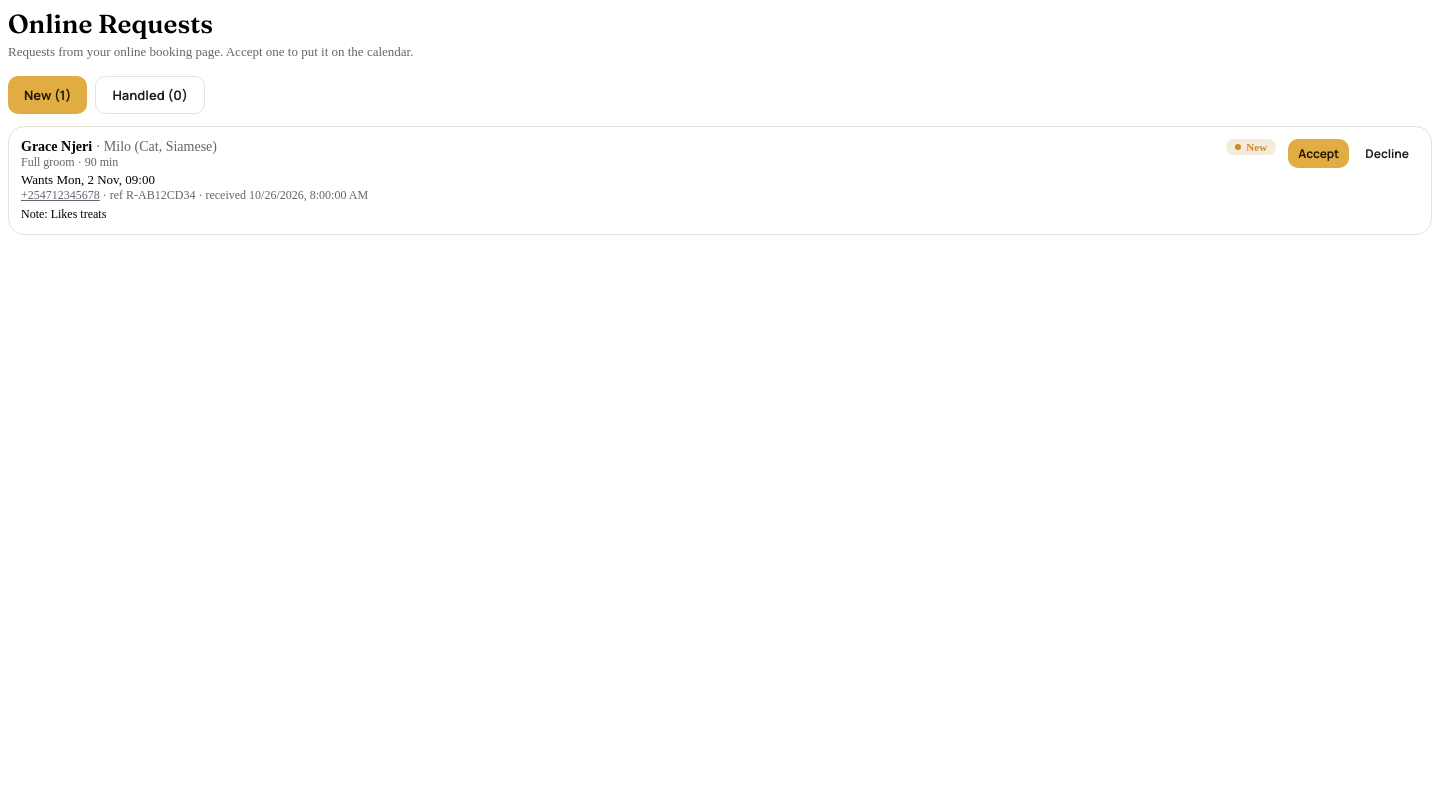
Scenario: BookingRequestsPage › shows the clash message and keeps the request open when the groomer is busy
This screenshot has width=1440, height=810.
Click the button with aria-label "Accept request from Grace Njeri" at (1319, 154), box [1288,139,1349,168]
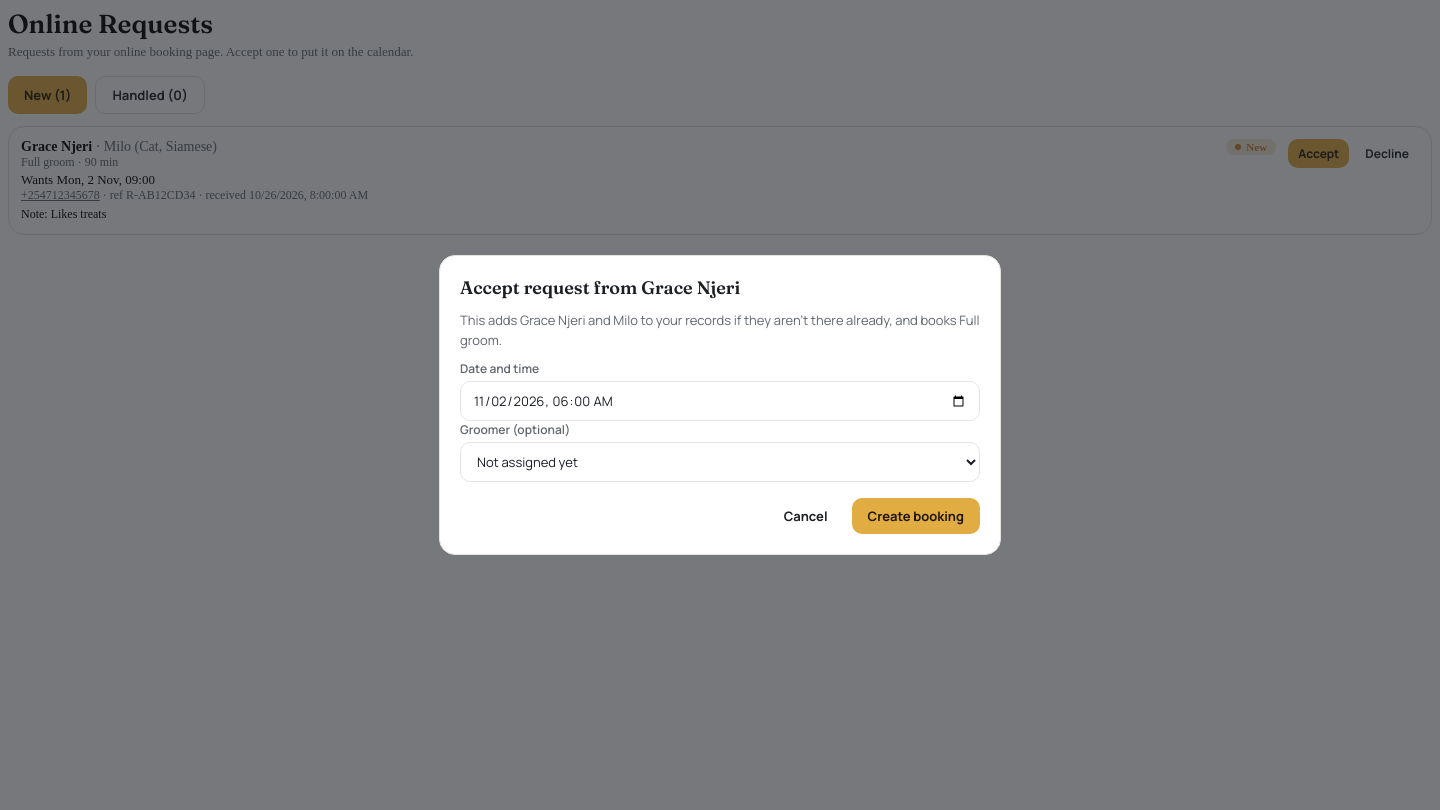
Click the button "Create booking" at (916, 516), box [852,498,980,534]
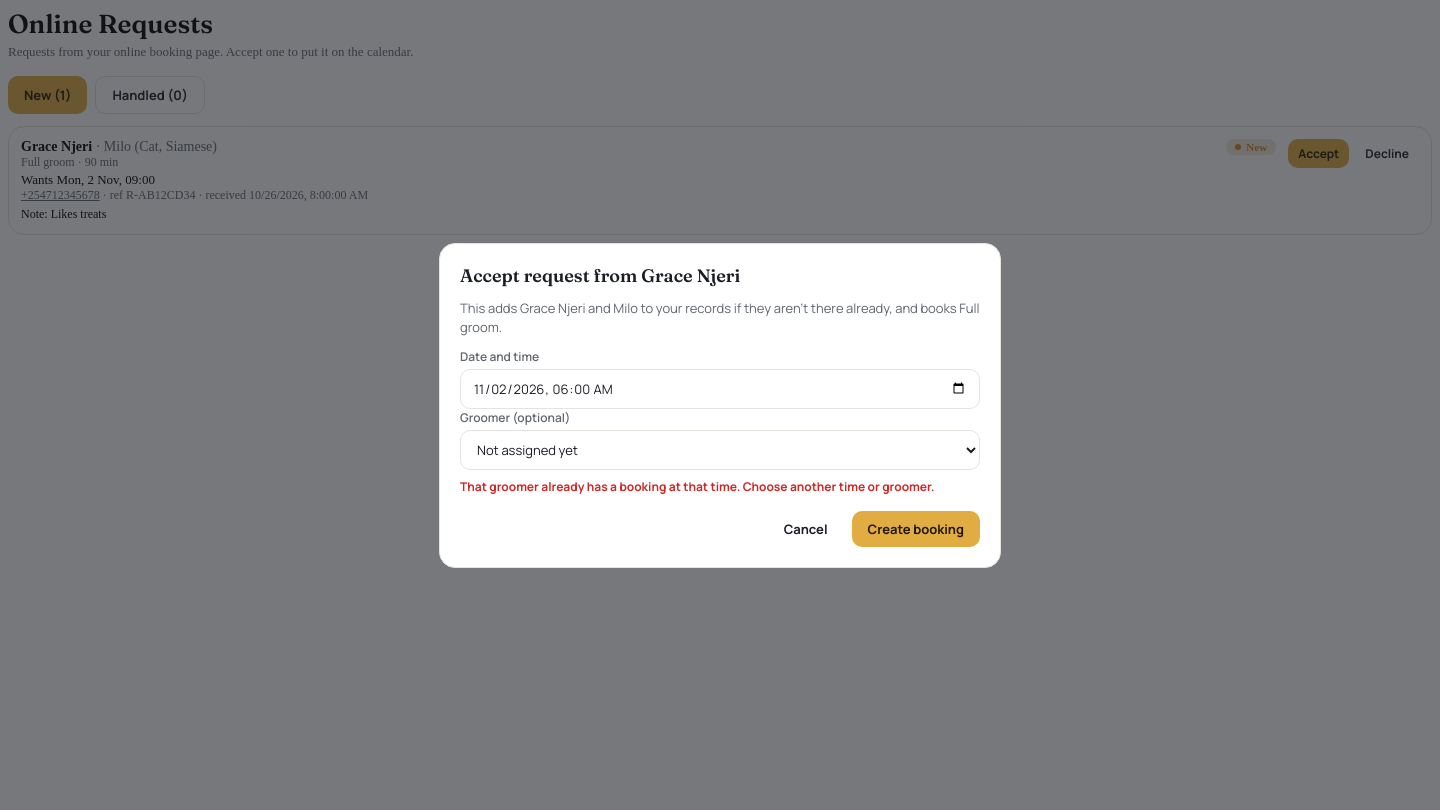
Expected: the button "Create booking" is shown, [852,510,980,546]
Expected: the text "groomer already has a booking" is shown, [460,478,934,494]
